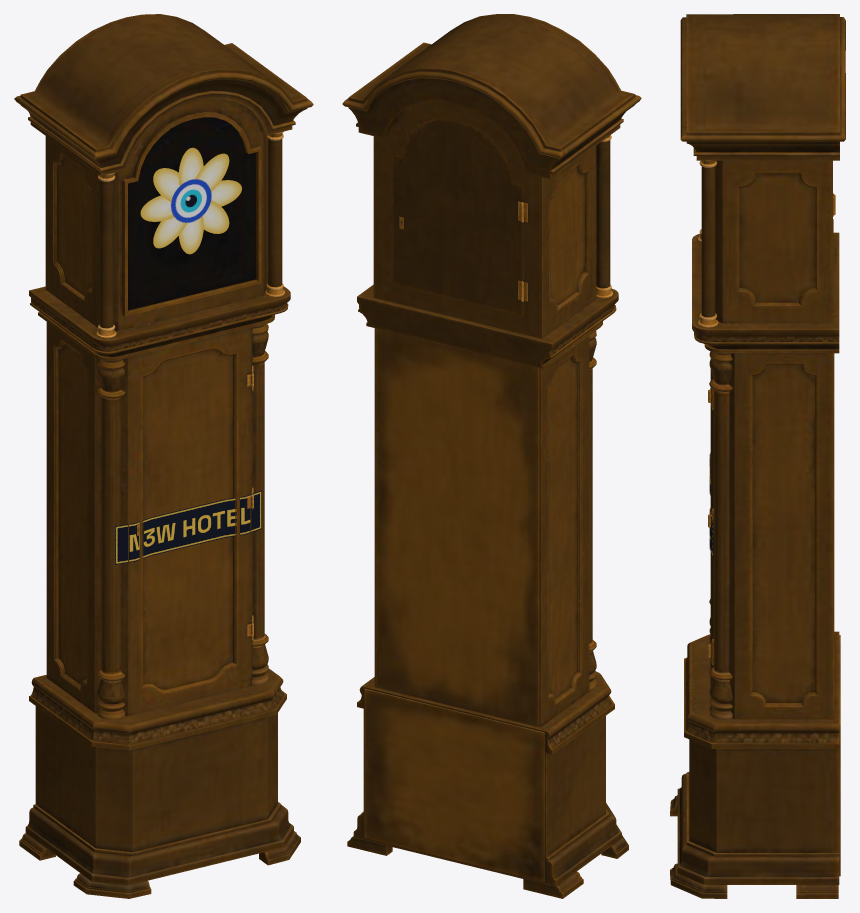
File: nyb_serendipity_clock.glb
The picture shows the model from 3 angles, left to right: view 1: azimuth 30°, elevation 25°; view 2: azimuth 150°, elevation 25°; view 3: azimuth 270°, elevation 25°; orthographic projection. The views are drawn at different scales.
Parts seen in each view (by area): view 1: vintage_grandfather_clock_01_body, stk_eyeflower_gold.png, stk_lbl_fd7485a5b6.png; view 2: vintage_grandfather_clock_01_body; view 3: vintage_grandfather_clock_01_body.
Boxes of the visible parts, x1,y1,x2,y2 form: vintage_grandfather_clock_01_body: (14, 14, 313, 898); stk_eyeflower_gold.png: (140, 147, 241, 254); stk_lbl_fd7485a5b6.png: (115, 490, 261, 564); vintage_grandfather_clock_01_body: (342, 14, 641, 898); vintage_grandfather_clock_01_body: (670, 14, 845, 898).
Bounding box in the file's own units: 0.6256 × 2.19 × 0.4267.
4 materials, 4 textured.
